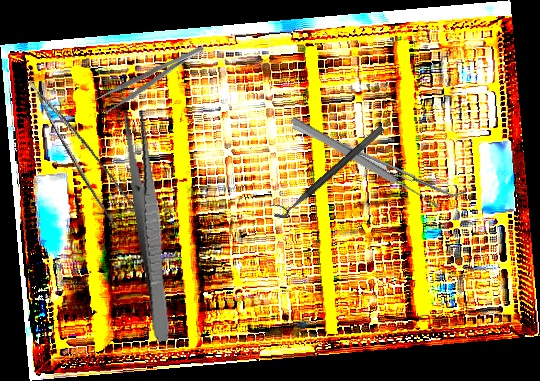Dressing Forceps: (120, 109, 178, 343), (94, 43, 211, 115)
Fixation Ring: (266, 116, 386, 224)
Spatula Surgical: (291, 115, 467, 204)
Surgical Spoon: (289, 114, 441, 212)
Tissue Forceps: (28, 66, 140, 233)
